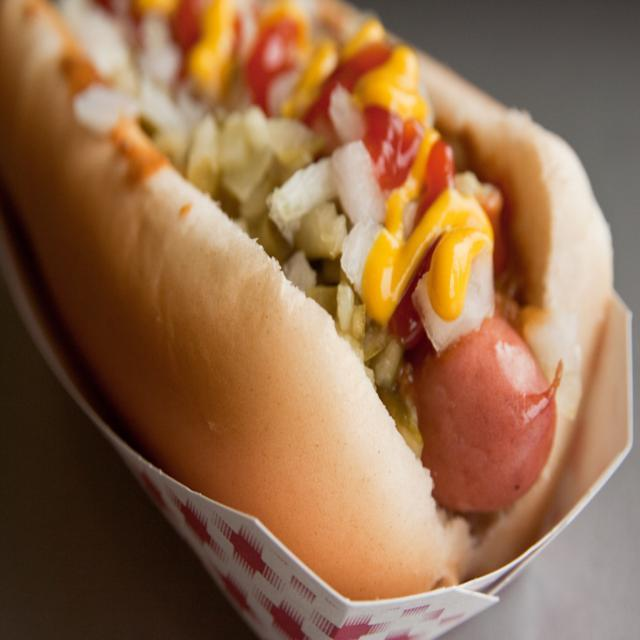Hot dog: (0, 0, 618, 624)
